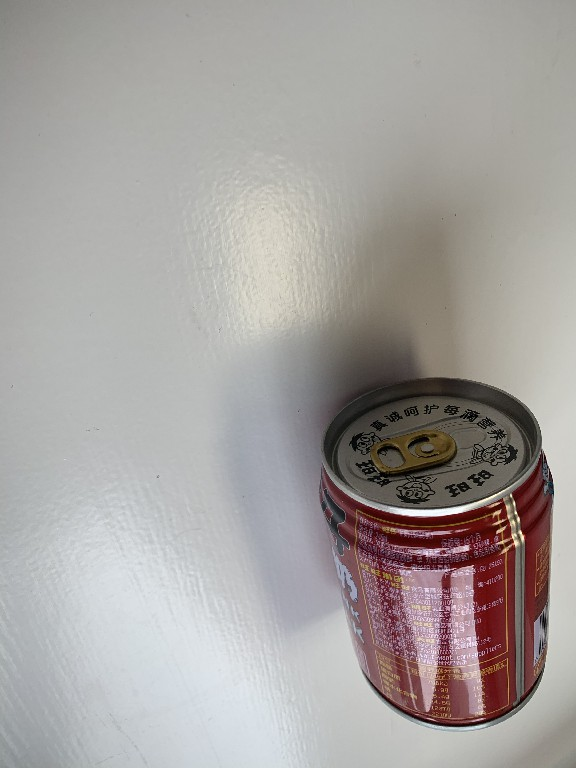can: (317, 374, 559, 734)
